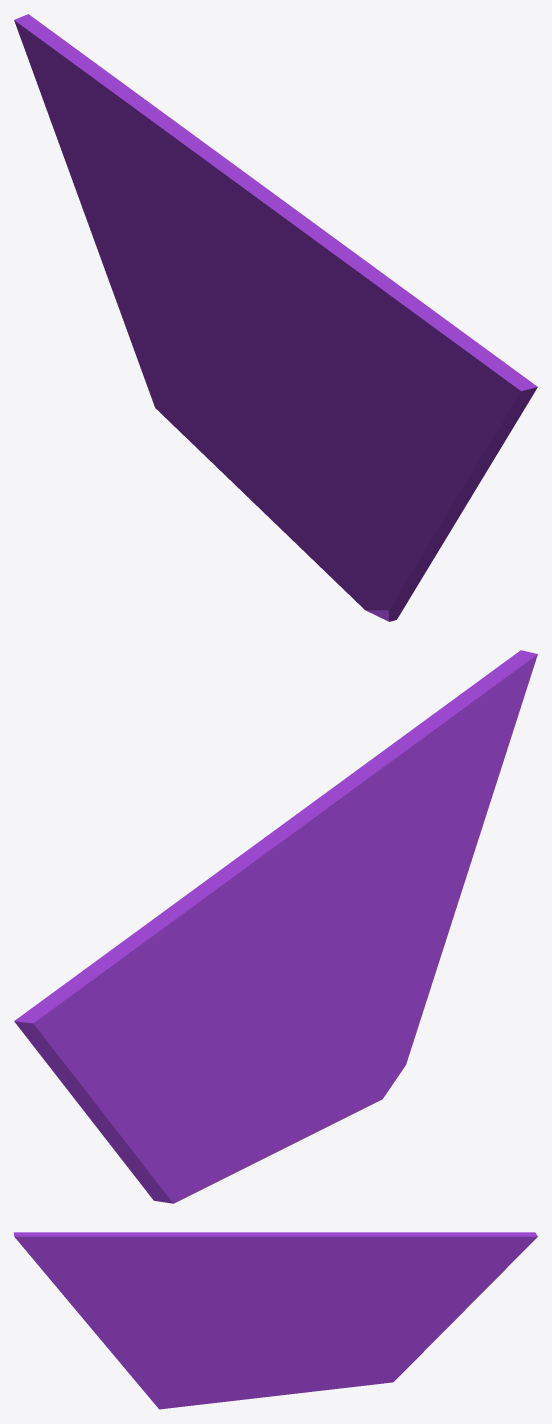
The model's file is Window_12_9_chunks.fbx.
3 views of the same model, one above another, from view 1: azimuth 30°, elevation 25°; view 2: azimuth 150°, elevation 25°; view 3: azimuth 270°, elevation 25° (orthographic). The views are drawn at different scales.
Parts seen in each view (by area): view 1: Window_12_9_7, Window_12_9_15, Window_12_9_8, Window_12_9_0, Window_12_9_11, Window_12_9_9, Window_12_9_4, Window_12_9_6, Window_12_9_3, Window_12_9_1, Window_12_9_12, Window_12_9_5 (+2 smaller); view 2: Window_12_9_7, Window_12_9_15, Window_12_9_8, Window_12_9_0, Window_12_9_11, Window_12_9_9, Window_12_9_4, Window_12_9_6, Window_12_9_3, Window_12_9_1, Window_12_9_13, Window_12_9_12 (+2 smaller); view 3: Window_12_9_7, Window_12_9_15, Window_12_9_8, Window_12_9_11, Window_12_9_6, Window_12_9_9, Window_12_9_0, Window_12_9_13, Window_12_9_10, Window_12_9_14, Window_12_9_4, Window_12_9_3 (+3 smaller).
Part boxes in pixels (x1,y1,x2,y2): Window_12_9_7: (369, 300, 537, 583); Window_12_9_15: (14, 14, 171, 252); Window_12_9_8: (293, 256, 419, 478); Window_12_9_0: (239, 185, 359, 416); Window_12_9_11: (134, 106, 279, 309); Window_12_9_9: (164, 278, 277, 402); Window_12_9_4: (145, 381, 256, 483); Window_12_9_6: (304, 449, 413, 621); Window_12_9_3: (247, 397, 336, 546); Window_12_9_1: (234, 457, 355, 600); Window_12_9_12: (130, 248, 174, 383); Window_12_9_5: (356, 472, 418, 612); Window_12_9_7: (386, 650, 537, 996); Window_12_9_15: (14, 929, 189, 1099); Window_12_9_8: (311, 736, 423, 1027); Window_12_9_0: (258, 775, 371, 1019); Window_12_9_11: (140, 838, 279, 1016); Window_12_9_9: (183, 961, 295, 1165); Window_12_9_4: (150, 1059, 274, 1203); Window_12_9_6: (322, 981, 400, 1103); Window_12_9_3: (265, 1012, 354, 1105); Window_12_9_1: (252, 1077, 372, 1164); Window_12_9_13: (67, 1080, 151, 1195); Window_12_9_12: (149, 1058, 193, 1194); Window_12_9_7: (14, 1232, 175, 1382); Window_12_9_15: (374, 1232, 537, 1306); Window_12_9_8: (132, 1232, 252, 1344); Window_12_9_11: (262, 1232, 411, 1296); Window_12_9_6: (141, 1339, 245, 1409); Window_12_9_9: (250, 1312, 377, 1372); Window_12_9_0: (185, 1232, 302, 1313); Window_12_9_13: (393, 1292, 482, 1378); Window_12_9_10: (247, 1277, 349, 1325); Window_12_9_14: (349, 1272, 401, 1360); Window_12_9_4: (293, 1349, 396, 1391); Window_12_9_3: (208, 1337, 295, 1386).
Size of the model in its own units: 27.2 by 516 by 1416.
